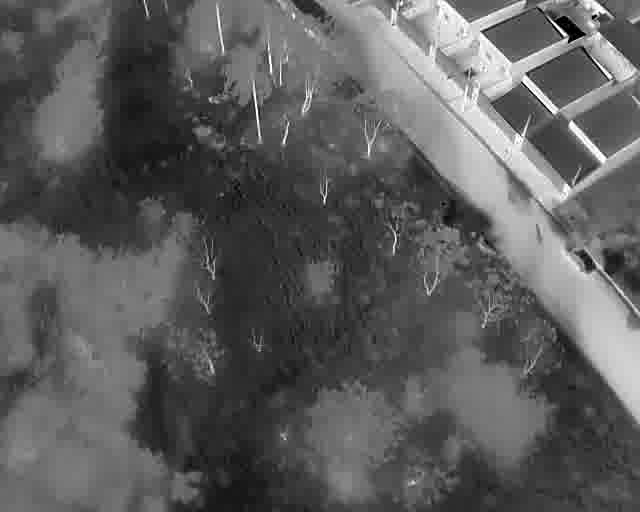car: (560, 241, 598, 276), (454, 63, 480, 82)
truck: (279, 0, 336, 39)
